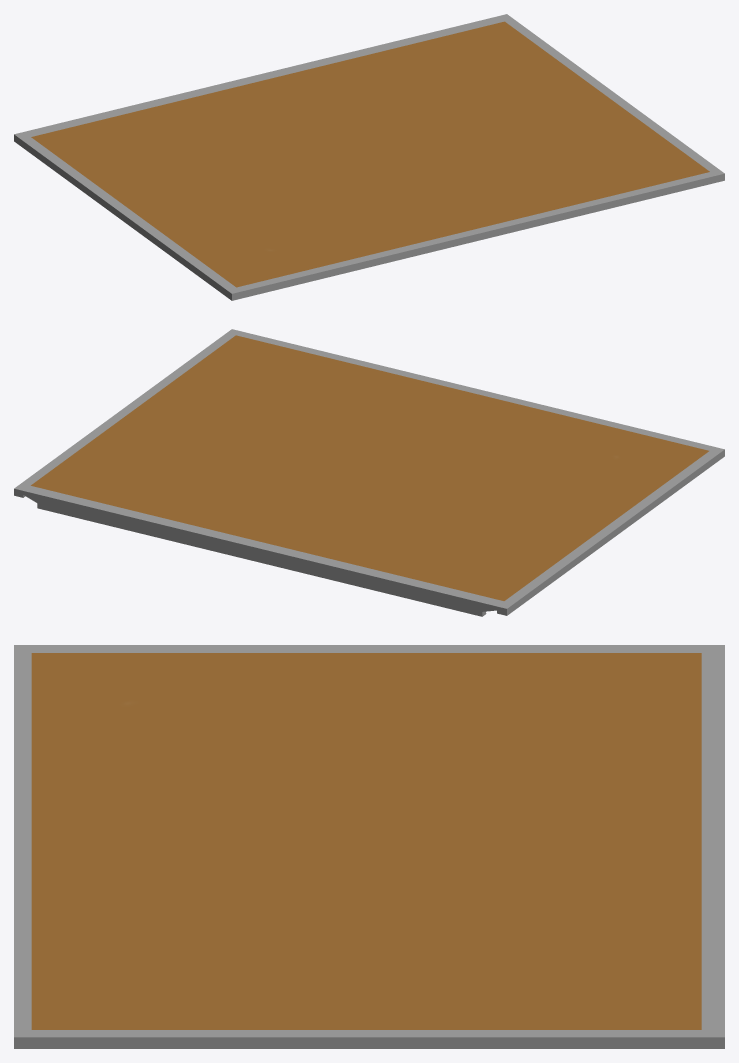
File: whiteboard.glb
3 views of the same model, one above another, from view 1: azimuth 30°, elevation 25°; view 2: azimuth 150°, elevation 25°; view 3: azimuth 270°, elevation 25° (orthographic). The views are drawn at different scales.
Visible parts, largest first — view 1: Whiteboard; view 2: Whiteboard; view 3: Whiteboard.
Part boxes in pixels (<box>): Whiteboard: <box>14,14,724,300</box>; Whiteboard: <box>14,329,724,616</box>; Whiteboard: <box>14,645,724,1048</box>.
Bounding box in the file's own units: 32.22 × 0.875 × 24.67.
Materials: 1 (1 with a texture image).
